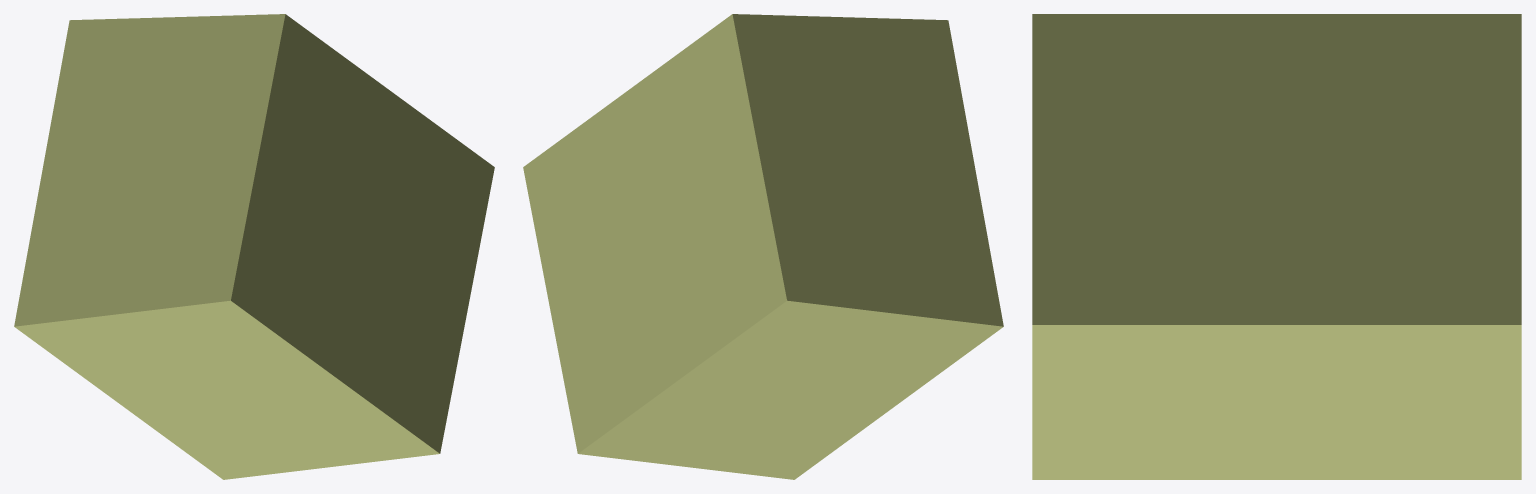
3 views of the same model, side by side, from view 1: azimuth 30°, elevation 25°; view 2: azimuth 150°, elevation 25°; view 3: azimuth 270°, elevation 25° (orthographic). The views are drawn at different scales.
Parts seen in each view (by area): view 1: 0_2_3_3_3_0_2_0_1_2_3; view 2: 0_2_3_3_3_0_2_0_1_2_3; view 3: 0_2_3_3_3_0_2_0_1_2_3.
Boxes of the visible parts, <box> form: 0_2_3_3_3_0_2_0_1_2_3: <box>14,14,494,479</box>; 0_2_3_3_3_0_2_0_1_2_3: <box>523,14,1003,479</box>; 0_2_3_3_3_0_2_0_1_2_3: <box>1032,14,1521,479</box>.
Bounding box in the file's own units: 4.49 × 5.06 × 6.
